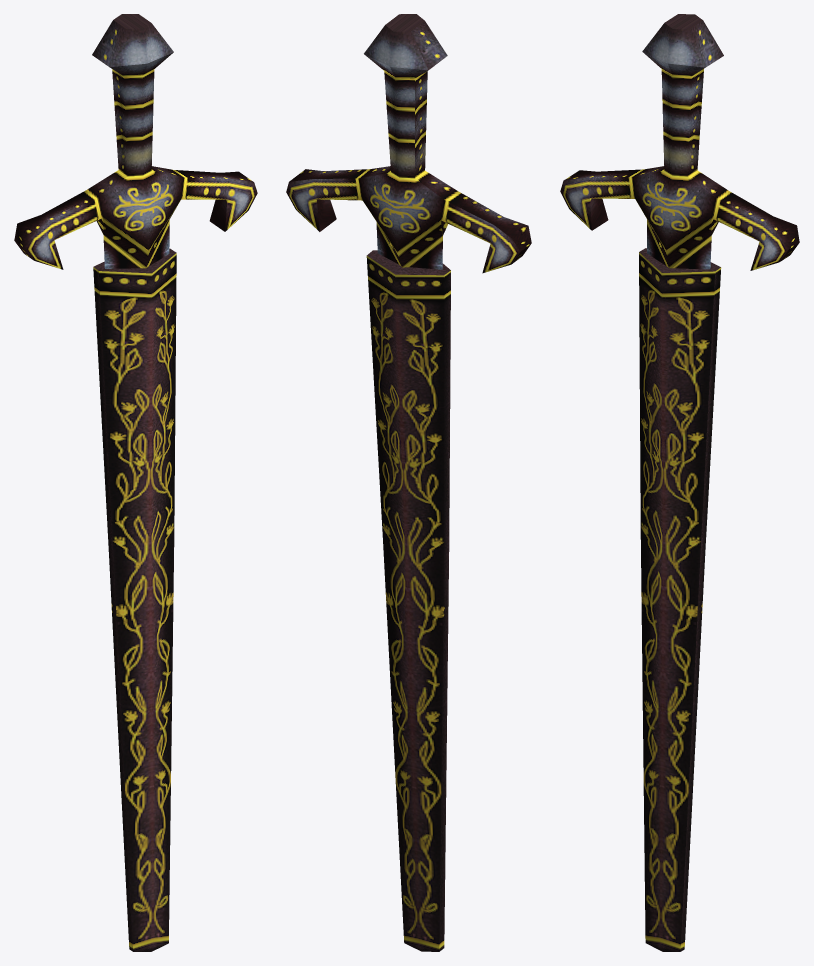
File: 1H_Knight_Sword.FBX
The picture shows the model from 3 angles, left to right: view 1: azimuth 30°, elevation 25°; view 2: azimuth 150°, elevation 25°; view 3: azimuth 330°, elevation 25°; orthographic projection. The views are drawn at different scales.
Parts seen in each view (by area): view 1: Knight_Sword_Scabbard, 1H_Knight_Sword; view 2: Knight_Sword_Scabbard, 1H_Knight_Sword; view 3: Knight_Sword_Scabbard, 1H_Knight_Sword.
Part boxes in pixels (left/top/right/bottom): Knight_Sword_Scabbard: left=93, top=248, right=176, bottom=951; 1H_Knight_Sword: left=14, top=14, right=257, bottom=269; Knight_Sword_Scabbard: left=366, top=250, right=450, bottom=951; 1H_Knight_Sword: left=286, top=14, right=531, bottom=273; Knight_Sword_Scabbard: left=639, top=248, right=721, bottom=951; 1H_Knight_Sword: left=560, top=14, right=799, bottom=270.
Size of the model in its own units: 33.97 by 129 by 9.25.
